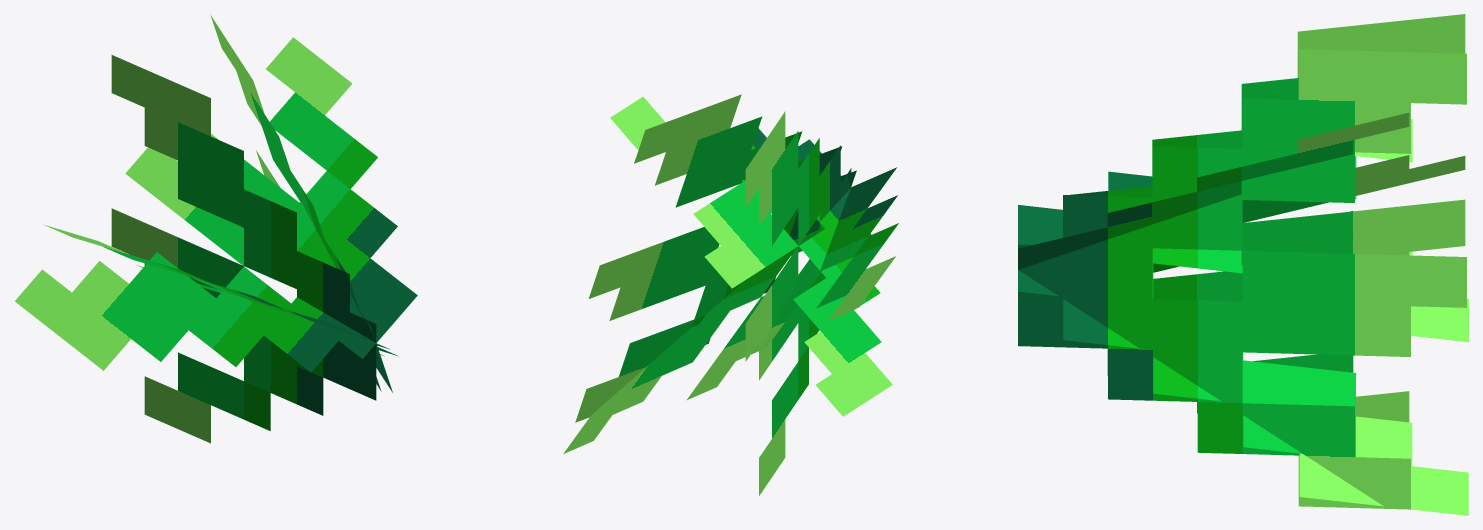
The model's file is Grass Cluster.fbx.
3 renders of one model, left to right at view 1: azimuth 30°, elevation 25°; view 2: azimuth 150°, elevation 25°; view 3: azimuth 270°, elevation 25°, orthographic. The views are drawn at different scales.
Parts seen in each view (by area): view 1: Grass Cluster.001; view 2: Grass Cluster.001; view 3: Grass Cluster.001.
Boxes of the visible parts, x1,y1,x2,y2 form: Grass Cluster.001: (15, 15, 417, 443); Grass Cluster.001: (563, 94, 898, 495); Grass Cluster.001: (1018, 14, 1468, 515).
Bounding box in the file's own units: 0.4778 × 0.523 × 0.4896.
